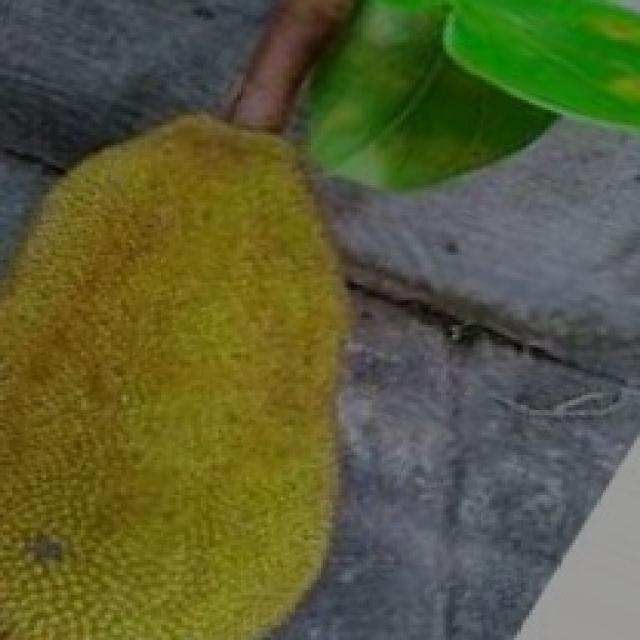Fruit: (0, 242, 397, 640), (3, 90, 400, 395)
